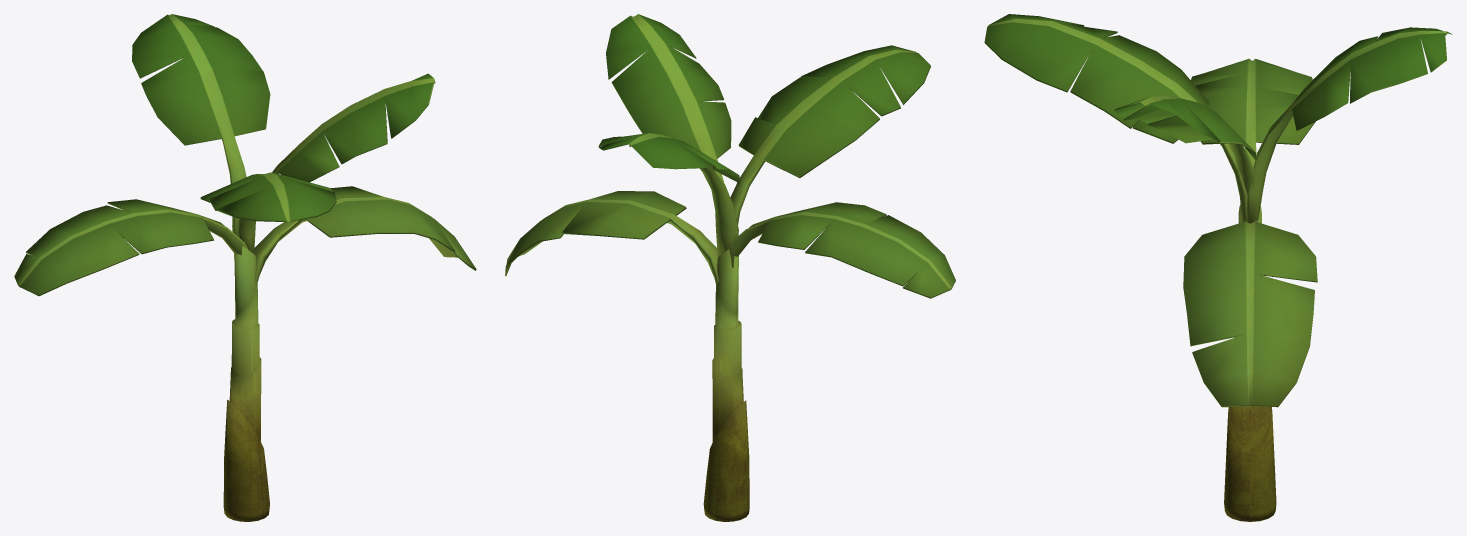
The model's file is banana_tree.fbx.
3 views of the same model, side by side, from view 1: azimuth 30°, elevation 25°; view 2: azimuth 150°, elevation 25°; view 3: azimuth 270°, elevation 25° (orthographic). The views are drawn at different scales.
Parts seen in each view (by area): view 1: banana tree; view 2: banana tree; view 3: banana tree.
Boxes of the visible parts, x1,y1,x2,y2 form: banana tree: (14,14,476,521); banana tree: (505,14,955,521); banana tree: (984,14,1452,521).
Size of the model in its own units: 299 by 277 by 242.
